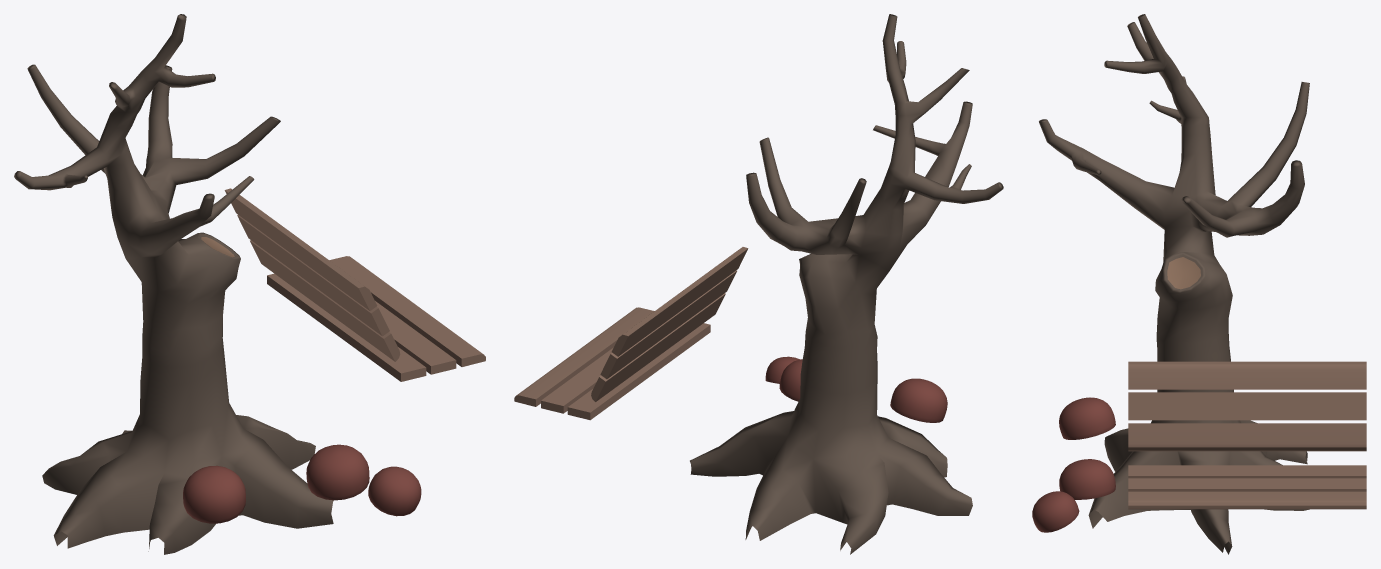
The model's file is TexutreOne.fbx.
The picture shows the model from 3 angles, left to right: view 1: azimuth 30°, elevation 25°; view 2: azimuth 150°, elevation 25°; view 3: azimuth 270°, elevation 25°; orthographic projection. The views are drawn at different scales.
Visible parts, largest first — view 1: pCylinder6, pSphere3 (×3), pCube12, pCube7, pCube10, pCube9, pCube8, pCube11; view 2: pCylinder6, pCube12, pSphere3 (×2), pCube7, pCube10, pCube9, pCube8, pCube11; view 3: pCylinder6, pCube7, pCube8, pCube9, pSphere3 (×3), pCube12, pCube10, pCube11.
Part boxes in pixels (x1=…): pCylinder6: x1=14, y1=14, x2=333, y2=554; pSphere3 (×3): x1=183, y1=444, x2=421, y2=523; pCube12: x1=329, y1=256, x2=485, y2=366; pCube7: x1=224, y1=188, x2=377, y2=310; pCube10: x1=267, y1=273, x2=426, y2=381; pCube9: x1=250, y1=240, x2=400, y2=361; pCube8: x1=237, y1=215, x2=389, y2=336; pCube11: x1=375, y1=301, x2=456, y2=374; pCylinder6: x1=690, y1=14, x2=1003, y2=554; pCube12: x1=514, y1=307, x2=654, y2=406; pSphere3 (×2): x1=779, y1=359, x2=947, y2=422; pCube7: x1=611, y1=247, x2=748, y2=356; pCube10: x1=567, y1=323, x2=710, y2=420; pCube9: x1=591, y1=293, x2=725, y2=401; pCube8: x1=600, y1=270, x2=736, y2=379; pCube11: x1=541, y1=347, x2=613, y2=413; pCylinder6: x1=1039, y1=14, x2=1309, y2=554; pCube7: x1=1128, y1=361, x2=1366, y2=389; pCube8: x1=1128, y1=392, x2=1366, y2=420; pCube9: x1=1128, y1=423, x2=1366, y2=451; pSphere3 (×3): x1=1032, y1=397, x2=1115, y2=532; pCube12: x1=1128, y1=491, x2=1366, y2=509; pCube10: x1=1128, y1=465, x2=1366, y2=478; pCube11: x1=1128, y1=478, x2=1366, y2=491.
Bounding box in the file's own units: 6.5 × 7.4 × 4.81.
